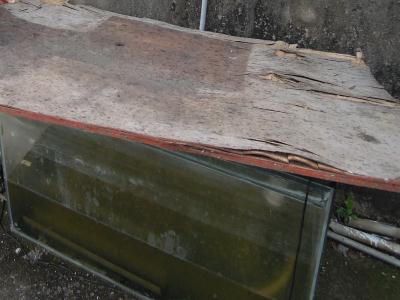aquarium: (1, 113, 341, 300)
